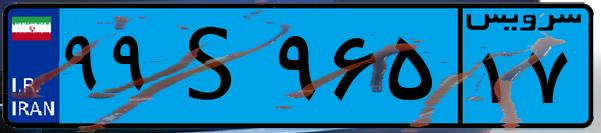1: (475, 38, 525, 113)
5: (385, 28, 445, 110)
6: (330, 28, 385, 110)
7: (525, 38, 570, 115)
9: (270, 28, 330, 110), (57, 26, 110, 100), (110, 28, 158, 98)
S: (158, 12, 270, 120)
